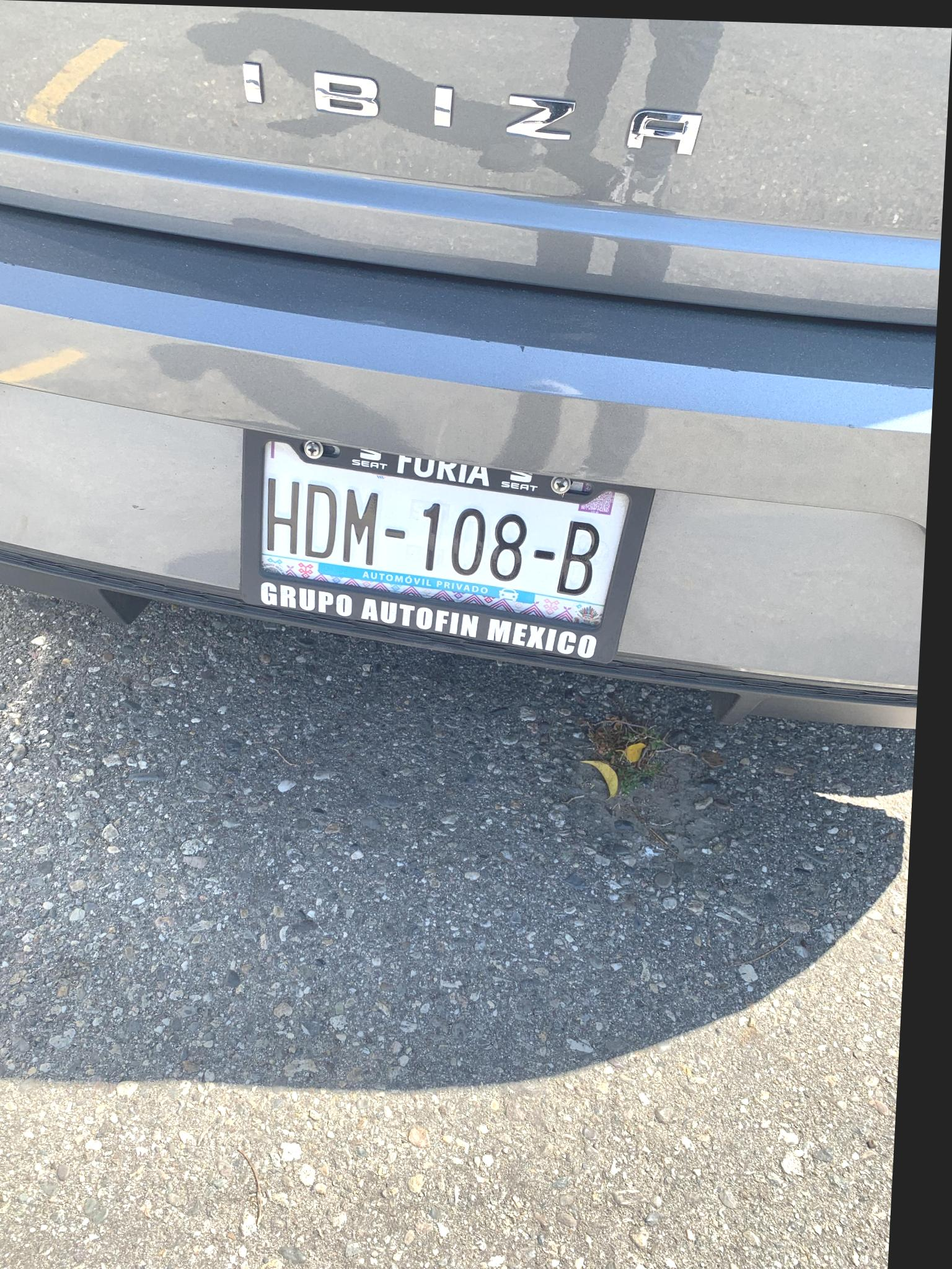License_Plate: (207, 391, 677, 691)
